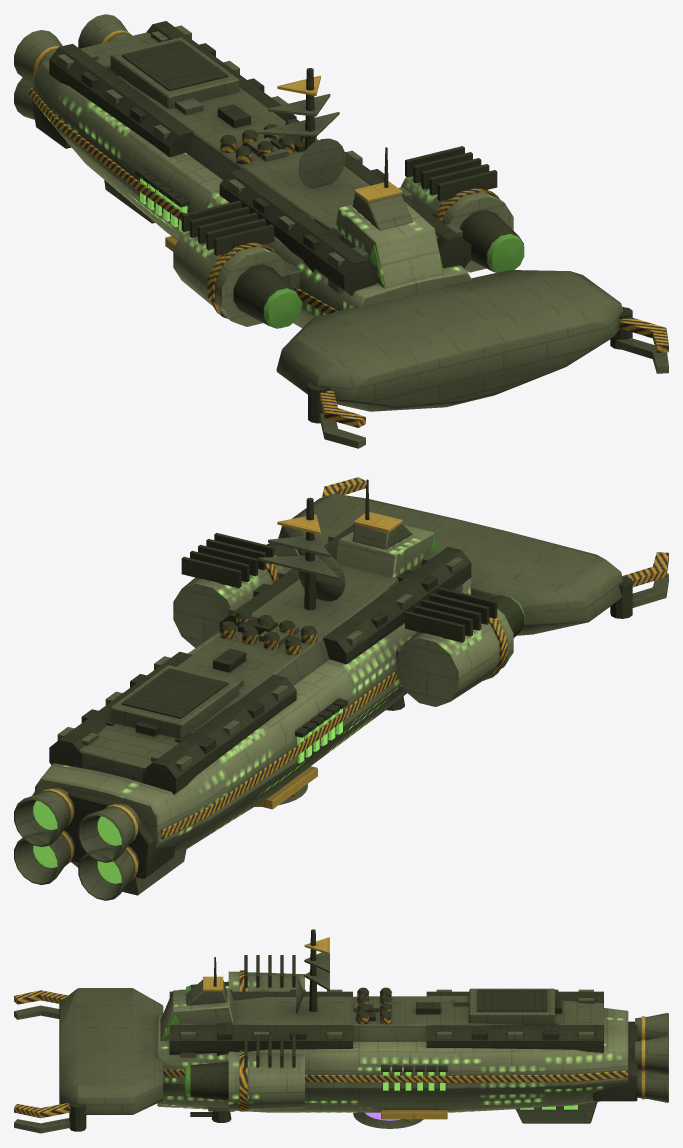
Rendered from krell_destroyer.glb.
The picture shows the model from 3 angles, top to bottom: view 1: azimuth 30°, elevation 25°; view 2: azimuth 150°, elevation 25°; view 3: azimuth 270°, elevation 25°; orthographic projection. The views are drawn at different scales.
Visible parts, largest first — view 1: HULL, SYS_WPN2, SYS_BUS_F, SYS_WPN1, SYS_BUS_A, SYS_BRIDGE, SYS_SENSORS, SYS_DRIVE, SYS_MSL, SYS_REACTOR; view 2: HULL, SYS_DRIVE, SYS_WPN2, SYS_BUS_A, SYS_BUS_F, SYS_WPN1, SYS_BRIDGE, SYS_SENSORS, SYS_REACTOR, SYS_MSL, SYS_JUMP; view 3: HULL, SYS_WPN1, SYS_BUS_F, SYS_BUS_A, SYS_DRIVE, SYS_BRIDGE, SYS_WPN2, SYS_REACTOR, SYS_SENSORS, SYS_JUMP, SYS_MSL, SYS_DAMP (+1 smaller).
Boxes of the visible parts, x1,y1,x2,y2 form: HULL: (29, 32, 668, 448); SYS_WPN2: (173, 200, 301, 328); SYS_BUS_F: (219, 150, 471, 295); SYS_WPN1: (400, 146, 524, 272); SYS_BUS_A: (49, 21, 296, 157); SYS_BRIDGE: (335, 147, 444, 300); SYS_SENSORS: (258, 68, 345, 188); SYS_DRIVE: (14, 14, 132, 148); SYS_MSL: (220, 119, 316, 164); SYS_REACTOR: (135, 168, 189, 251); HULL: (32, 477, 668, 867); SYS_DRIVE: (14, 787, 175, 900); SYS_WPN2: (396, 587, 524, 706); SYS_BUS_A: (49, 651, 296, 794); SYS_BUS_F: (219, 524, 471, 664); SYS_WPN1: (173, 533, 299, 647); SYS_BRIDGE: (336, 479, 439, 577); SYS_SENSORS: (258, 497, 345, 610); SYS_REACTOR: (257, 698, 347, 809); SYS_MSL: (220, 609, 316, 654); SYS_JUMP: (122, 849, 186, 895); HULL: (14, 988, 628, 1133); SYS_WPN1: (184, 1035, 304, 1111); SYS_BUS_F: (169, 989, 352, 1057); SYS_BUS_A: (426, 989, 603, 1052); SYS_DRIVE: (593, 1013, 668, 1102); SYS_BRIDGE: (160, 957, 233, 1040); SYS_WPN2: (185, 955, 304, 991); SYS_REACTOR: (381, 1065, 447, 1119); SYS_SENSORS: (296, 929, 329, 1013); SYS_JUMP: (515, 1101, 597, 1123); SYS_MSL: (357, 987, 391, 1024); SYS_DAMP: (353, 1112, 423, 1128).
Size of the model in its own units: 21.72 by 15.49 by 48.99.
Materials: 1 (1 with a texture image).
